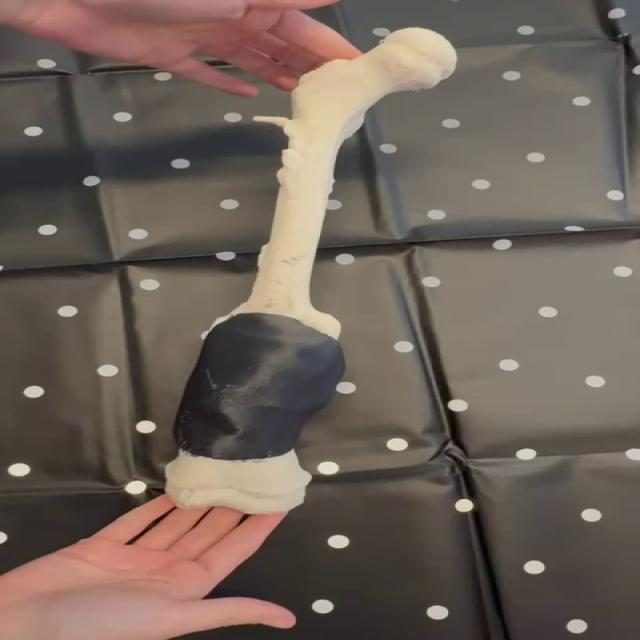bones: (166, 28, 457, 515)
